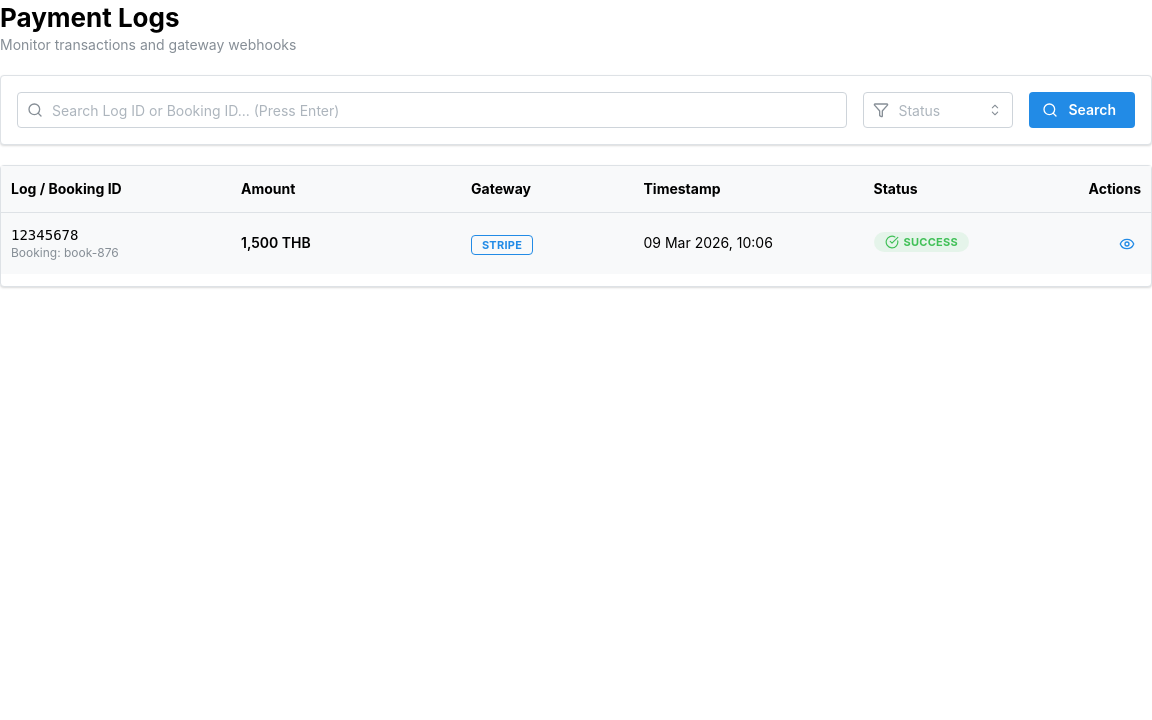
Scenario: PaymentLogManagement Component › opens transaction details modal when view icon is clicked
Click the button without text in the row of "12345678".
click(1127, 244)  # box left=1113, top=230, right=1141, bottom=258
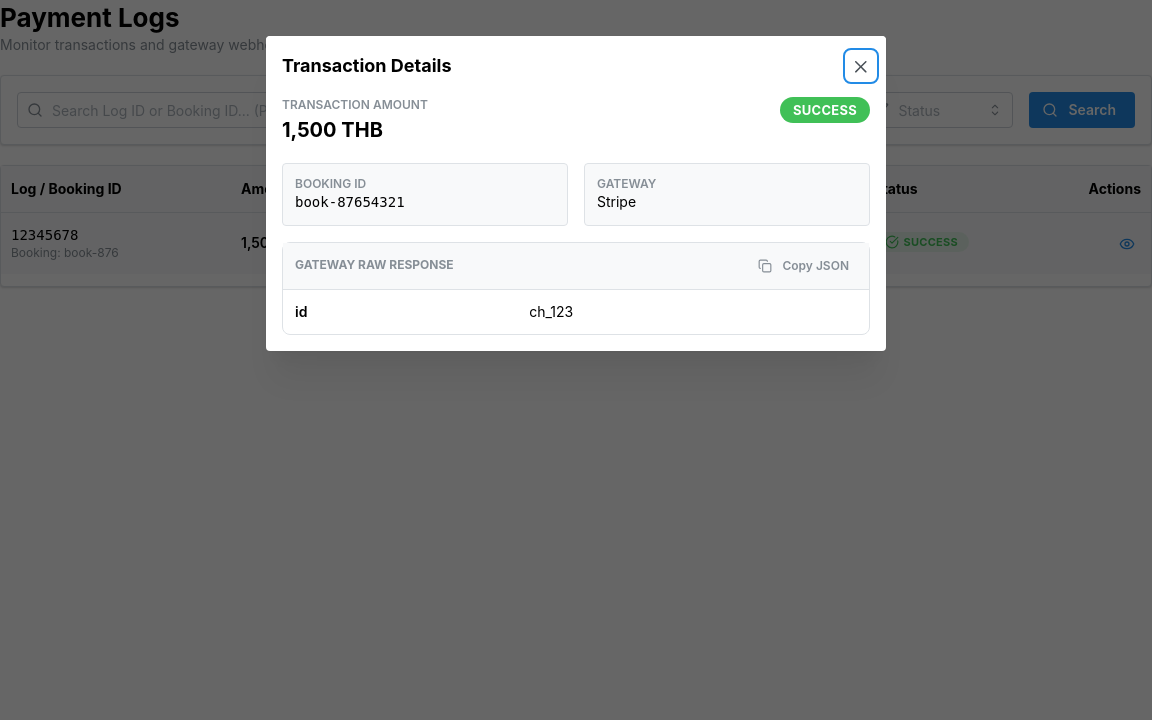
expect the text "Transaction Details" is shown: met, box left=282, top=52, right=452, bottom=81
expect the text "Stripe" is shown: met, box left=597, top=193, right=636, bottom=210
